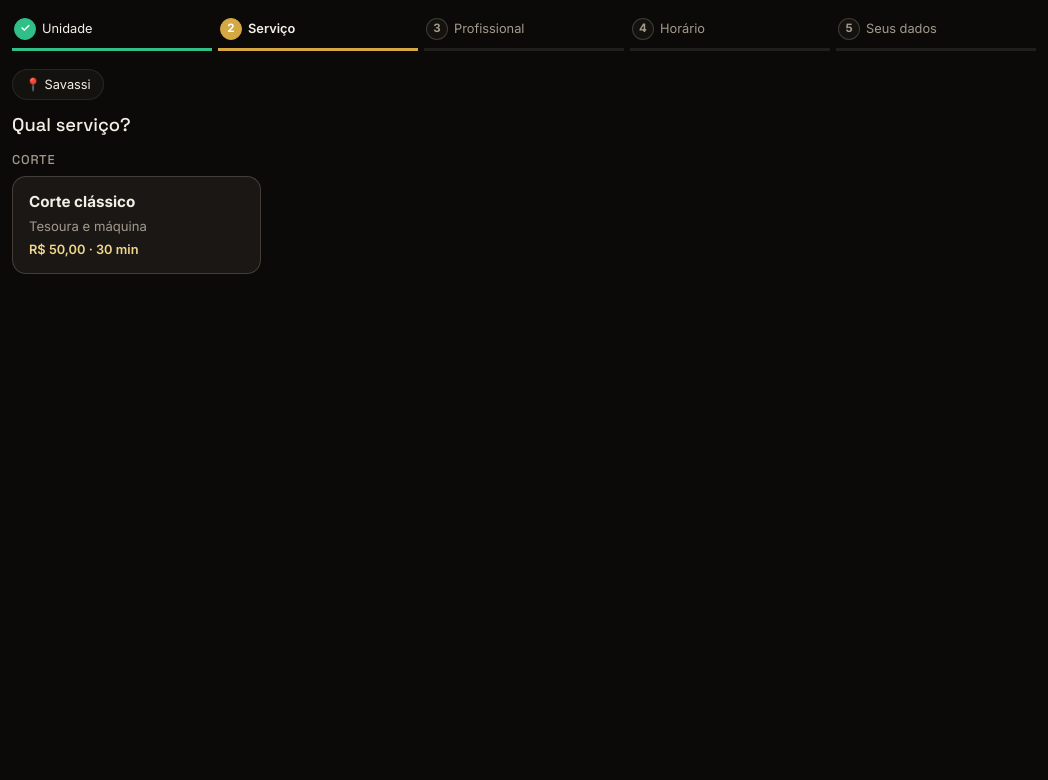
it: Agendar online › dia sem horário oferece a lista de espera
The image size is (1048, 780).
Click the text "Corte clássico". click: x=82, y=202
box: [29,191,135,213]
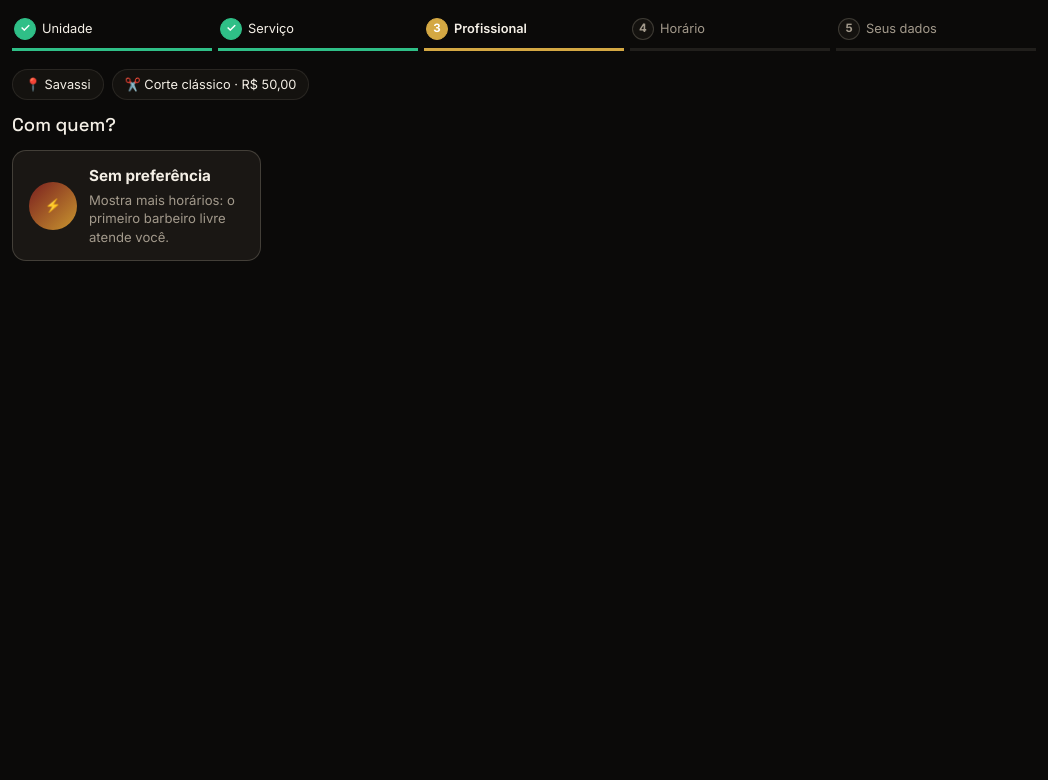
Click the text "Sem preferência". click: x=150, y=176
box: [89,166,211,185]
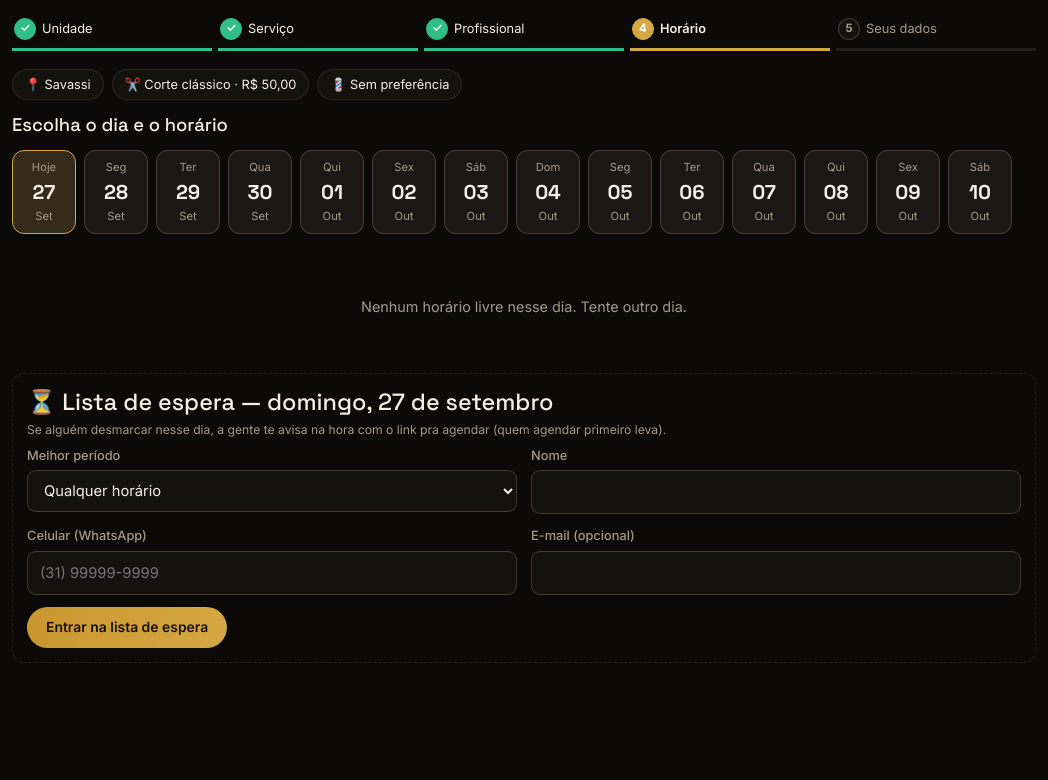
Result: the heading "⏳ Lista de espera — domingo, 27 de setembro" is shown at [27,388,554,418]
Type "Ana Souza" into the field labelled "Nome". click: x=776, y=492
box: [531,470,1021,514]
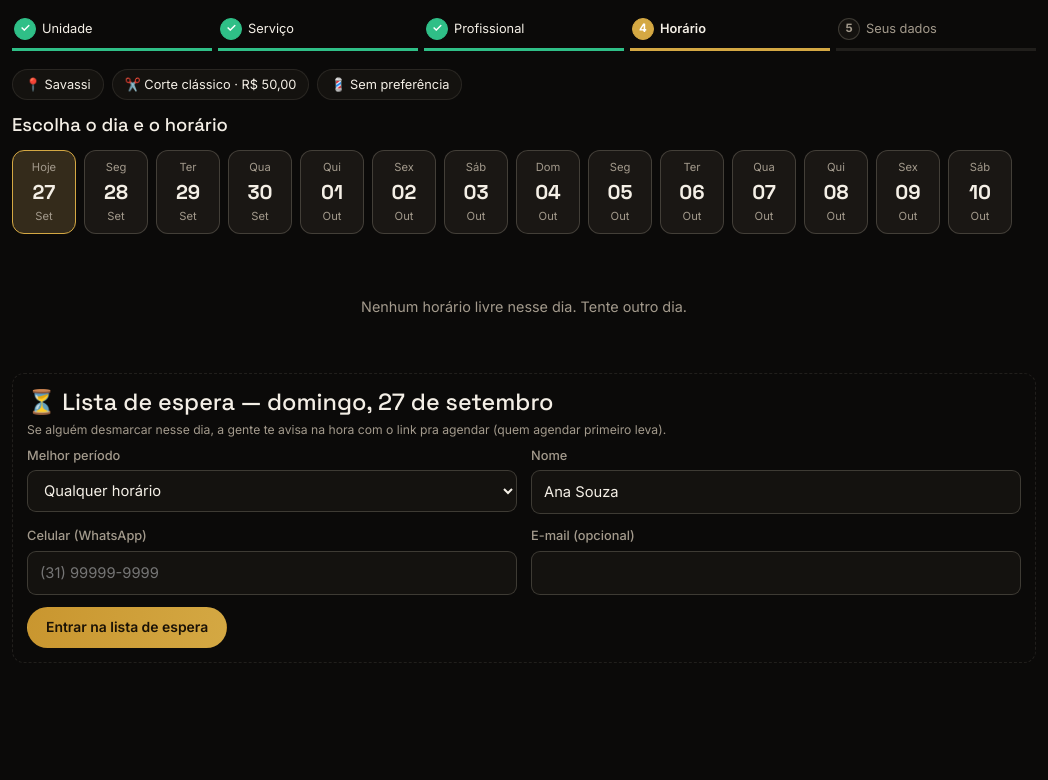
Type "31988887777" into the field labelled "Celular (WhatsApp)". click: x=272, y=573
box: [27,551,517,595]
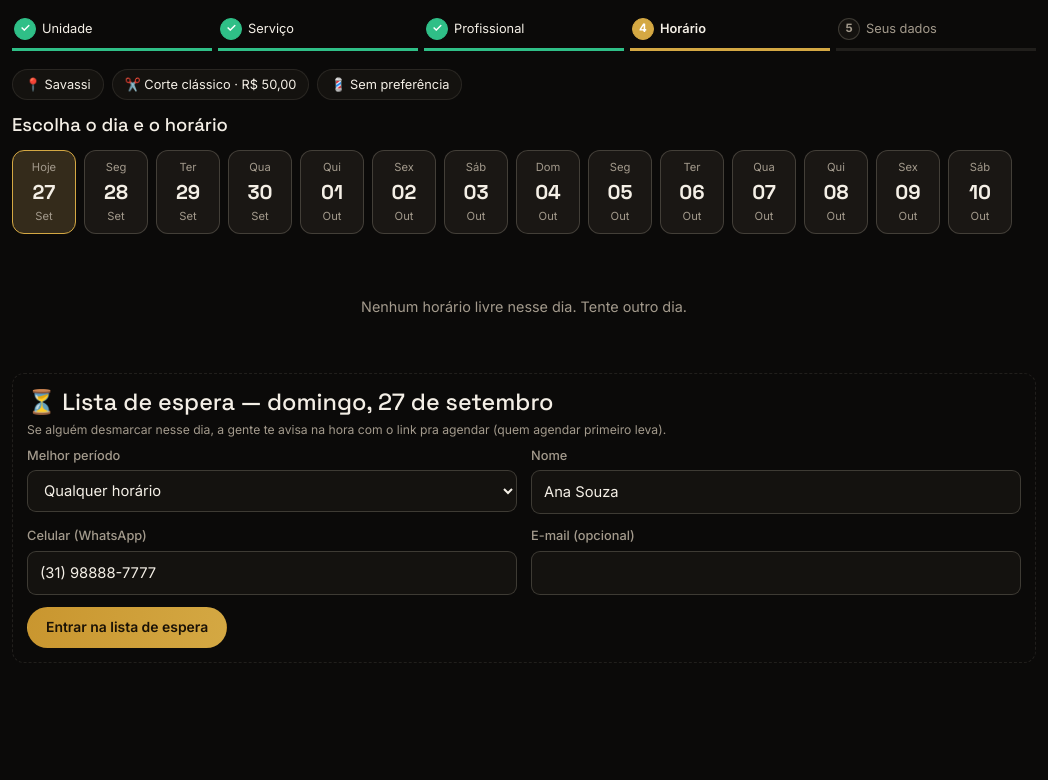
Click the button "Entrar na lista de espera". click: x=127, y=627
box: [27,607,227,648]
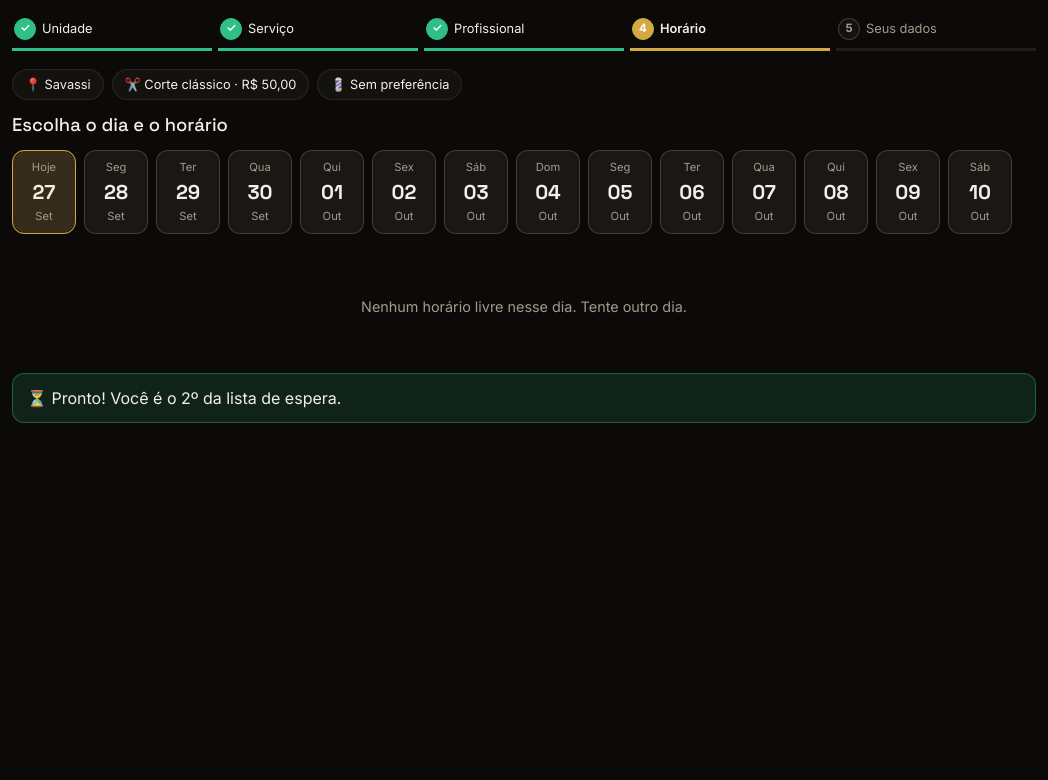
Result: the text "⏳ Pronto! Você é o 2º da lista de espera." is shown at [12,374,1036,424]
